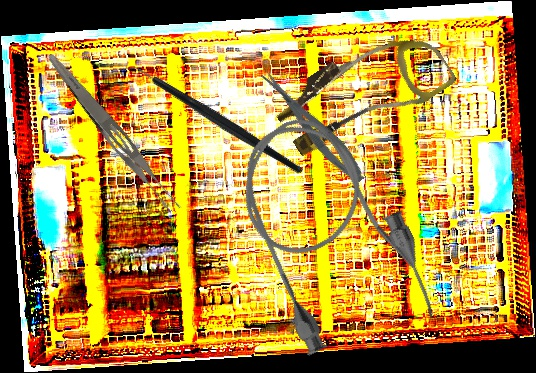Cannula: (214, 94, 448, 372), (267, 9, 459, 175)
Chopper: (116, 15, 304, 223)
Dressing Forceps: (38, 49, 186, 219)
Micro Scissor: (256, 63, 371, 189)
